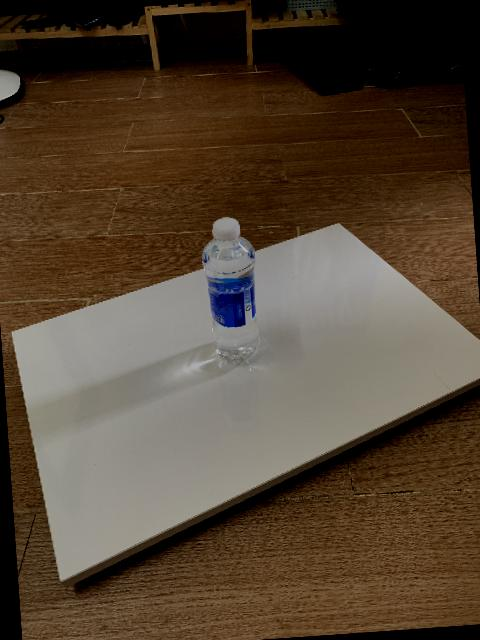aquafina: (201, 217, 259, 364)
